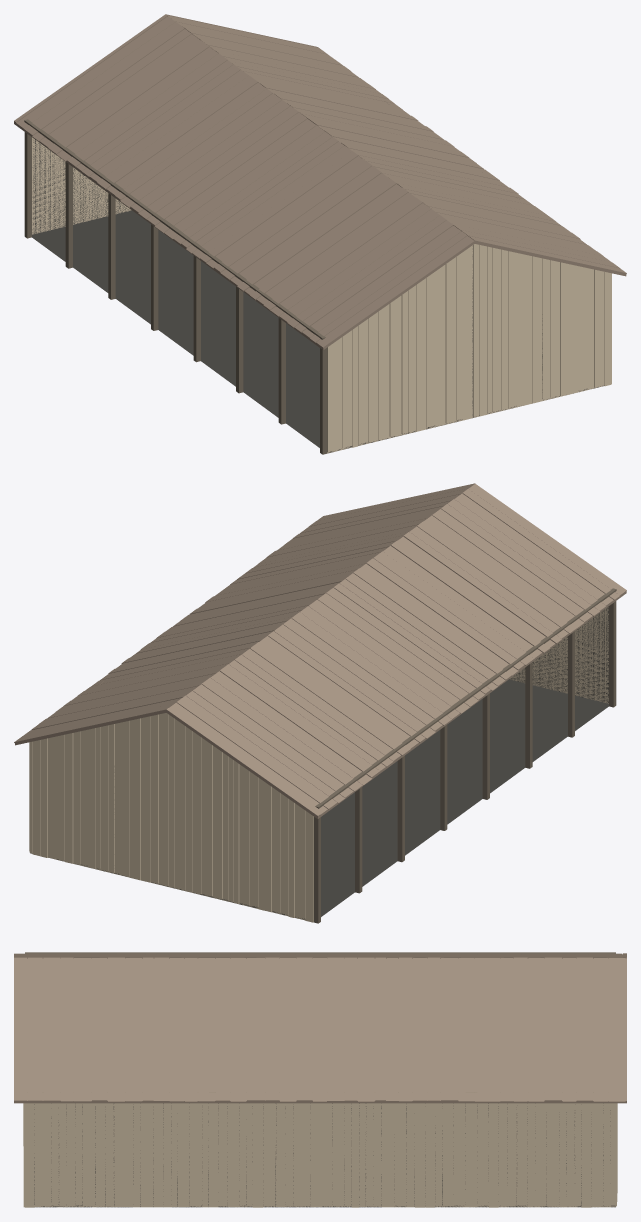
File: recon_1835_south_branch_lumber_f4_001__inferred_1835.glb
3 views of the same model, one above another, from view 1: azimuth 30°, elevation 25°; view 2: azimuth 150°, elevation 25°; view 3: azimuth 270°, elevation 25° (orthographic).
Parts seen in each view (by area): view 1: recon_1835_south_branch_lumber_f4_001__inferred_1835; view 2: recon_1835_south_branch_lumber_f4_001__inferred_1835; view 3: recon_1835_south_branch_lumber_f4_001__inferred_1835.
Boxes of the visible parts, <box> form: recon_1835_south_branch_lumber_f4_001__inferred_1835: <box>14,14,626,454</box>; recon_1835_south_branch_lumber_f4_001__inferred_1835: <box>14,483,626,923</box>; recon_1835_south_branch_lumber_f4_001__inferred_1835: <box>14,952,626,1207</box>.
Size of the model in its own units: 11.24 by 6.4 by 19.64.
